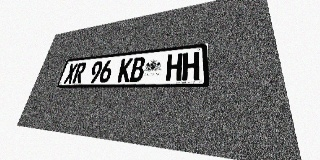6: (98, 60, 114, 83)
9: (88, 61, 104, 83)
B: (129, 57, 146, 82)
H: (165, 53, 183, 81), (182, 52, 199, 81)
K: (117, 58, 133, 82)
R: (72, 62, 87, 83)
X: (63, 63, 78, 84)
